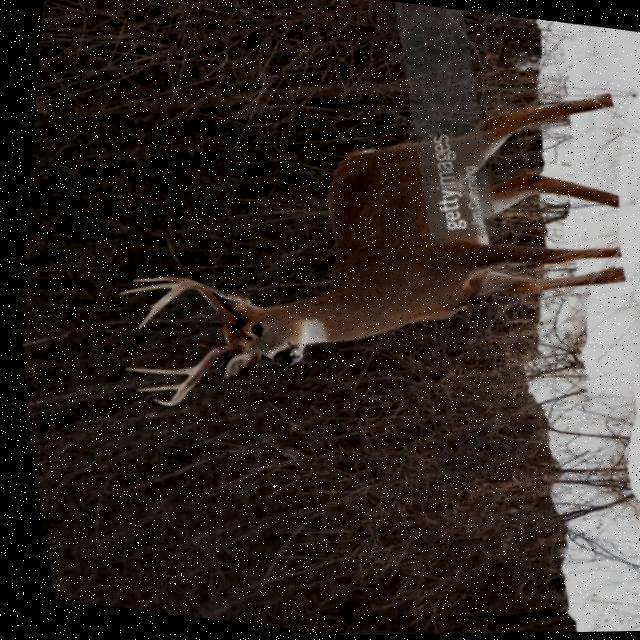L-F: (131, 283, 238, 330)
L-G1: (185, 314, 214, 320)
L-G2: (126, 277, 192, 283)
L-G3: (113, 283, 176, 296)
R-F: (146, 344, 229, 407)
R-G1: (192, 345, 213, 350)
R-G2: (118, 368, 186, 375)
R-G3: (130, 385, 173, 392)
